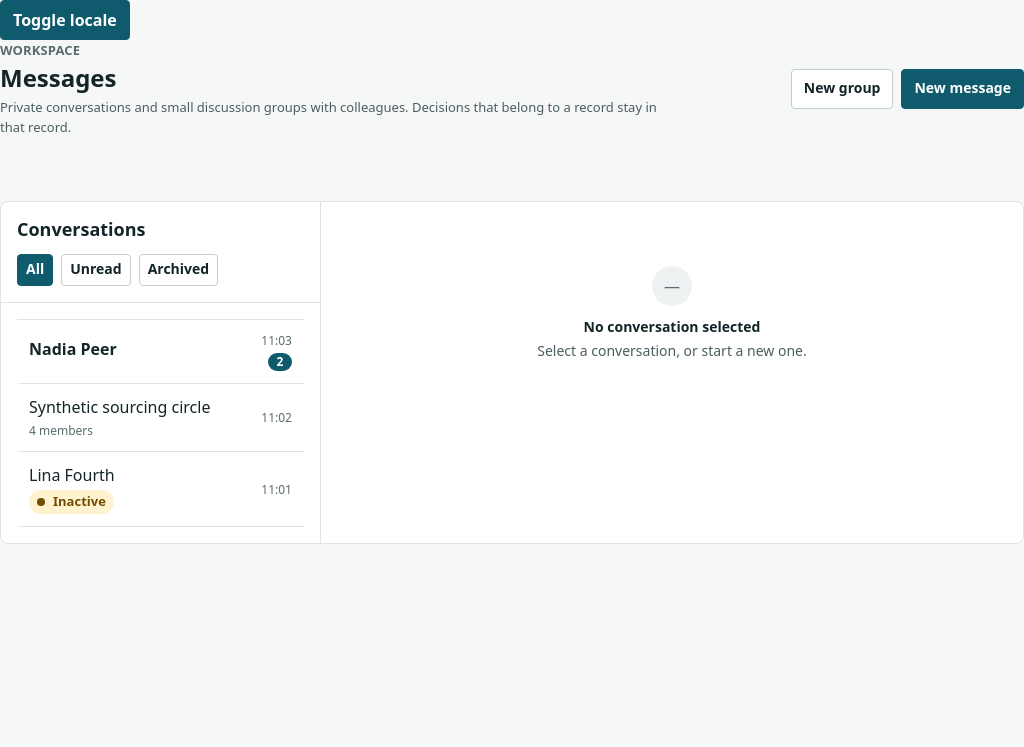
it: Messages workspace › advances the read cursor only while the latest messages are visible in a visible tab
The image size is (1024, 747).
Click the button "Nadia Peer 11:03 2". click: (73,349)
box: [17,320,304,384]
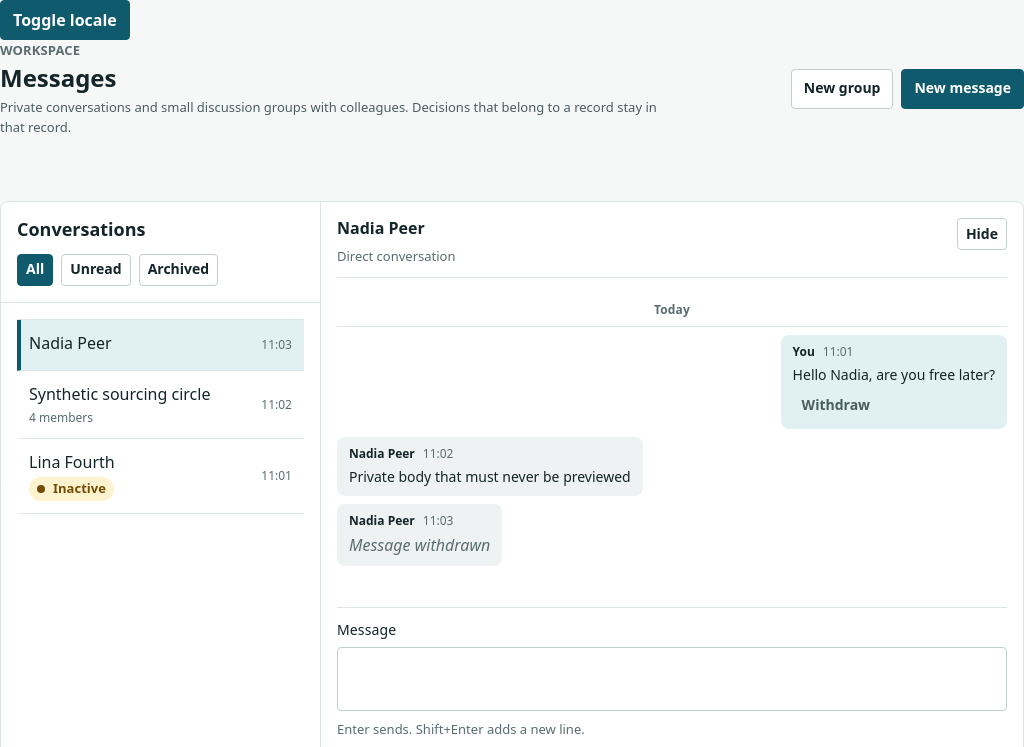
Expected: the button "Nadia Peer 11:03" does not show "unread", [17,320,304,371]
Result: the text "Private body that must never be previewed" is shown at [349,466,631,488]
